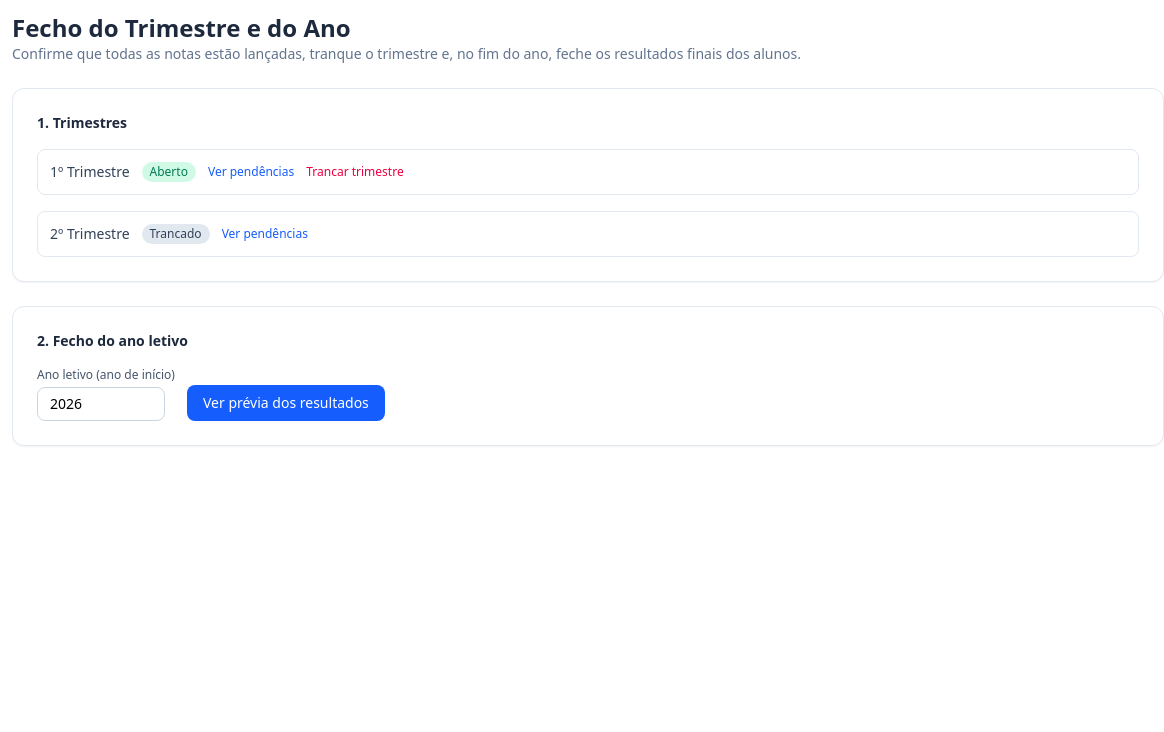
Scenario: FechoAnoComponent › mostra o erro devolvido pelo servidor num alerta acessível
The image size is (1164, 732).
Click the button "Ver prévia dos resultados" at (286, 403), box [187, 385, 385, 421]
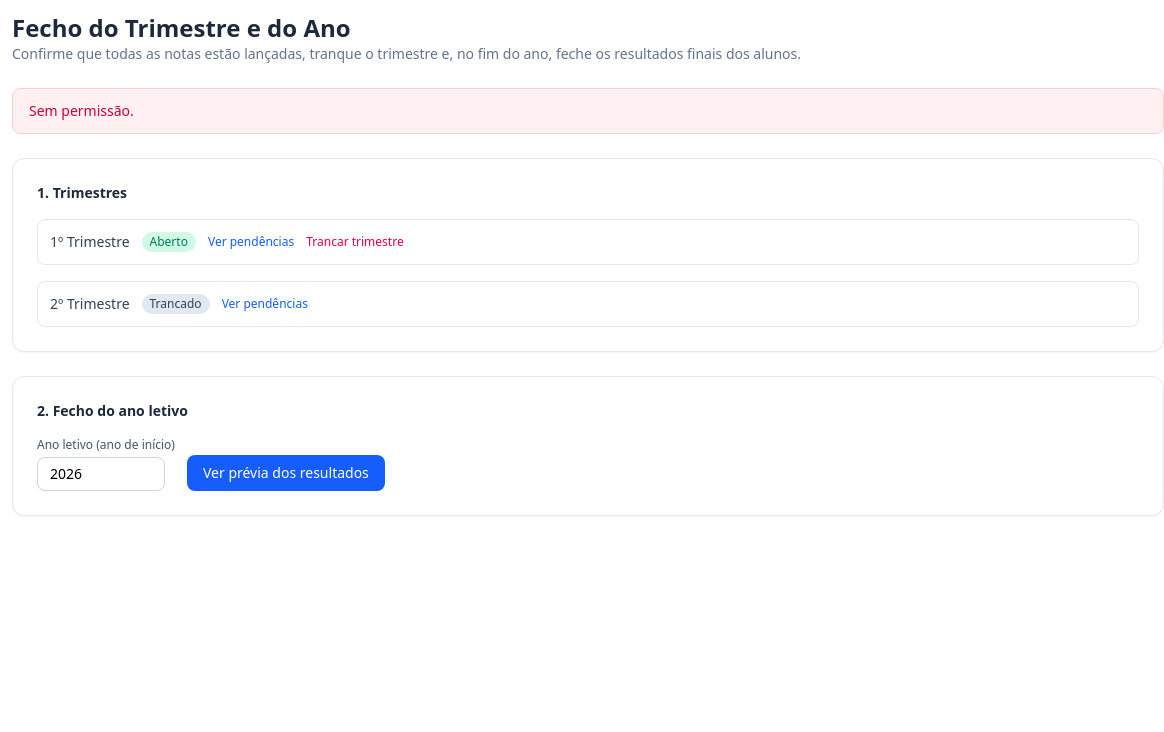
Check: the message "Sem permissão." is shown, box [12, 88, 1163, 134]
